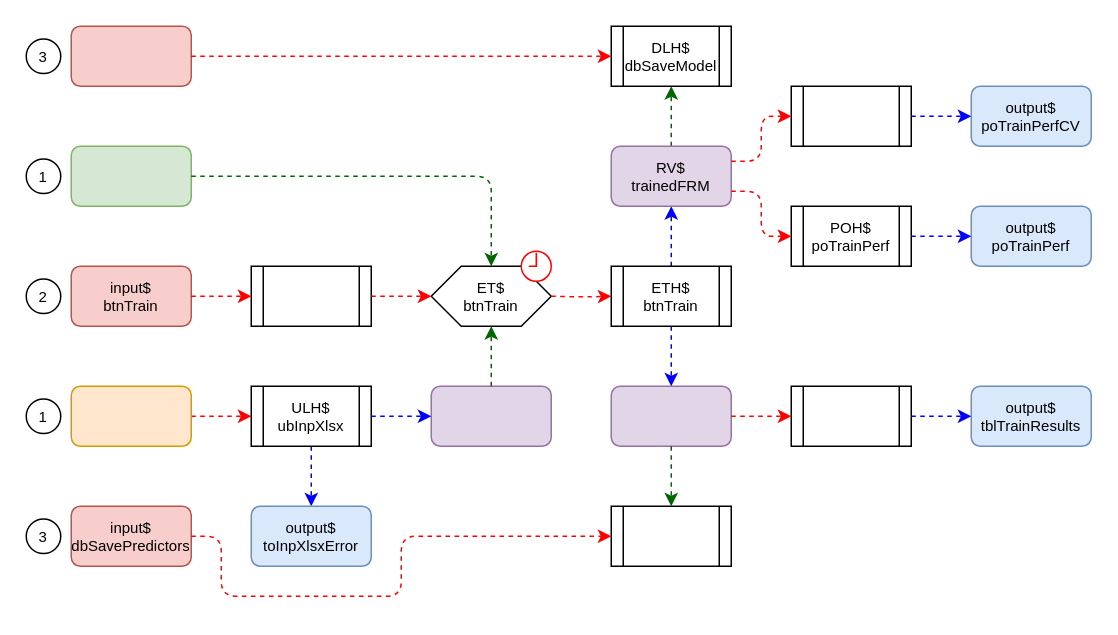
This 1118x635 diagram has some shape labels left out. Here are the shapes that lost their labels. From the top down, the box of each, then its label:
(70, 25, 191, 86): input$ dbSaveModel
(790, 85, 911, 146): POH$ poTrainPerfCV
(70, 145, 191, 206): rbMethod
(250, 265, 371, 326): ABH$ btnTrain
(70, 385, 191, 446): input$ ubInpXlsx
(430, 385, 551, 446): RV$ inpDf
(610, 385, 731, 446): RV$ tblTrainResults
(790, 385, 911, 446): TOH$ tblTrainResults
(610, 505, 731, 566): DLH$ dbSavePredictors
